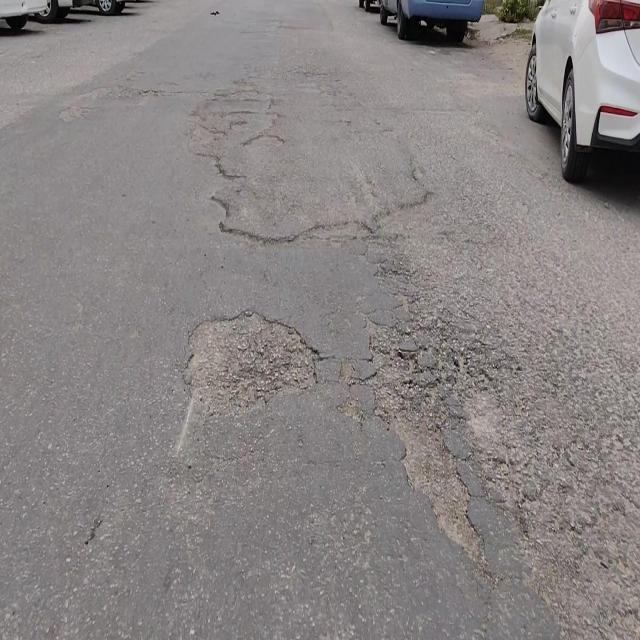pothole: (382, 402, 489, 560), (183, 302, 313, 407)
